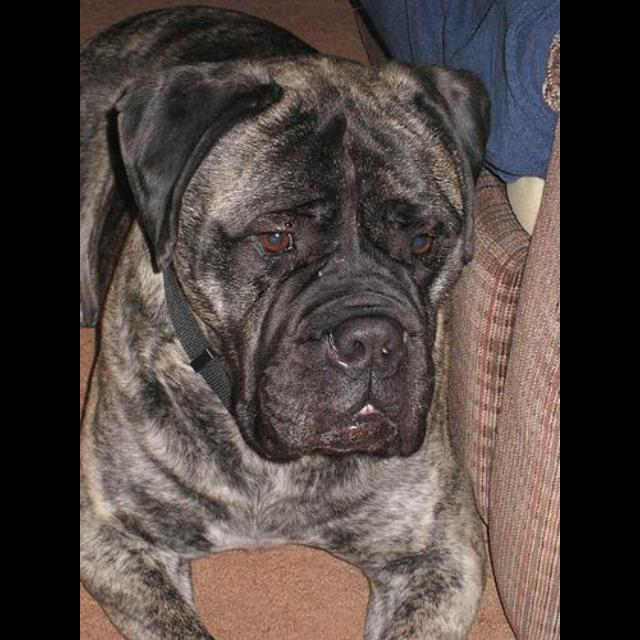bullmastiff: (82, 4, 495, 640)
